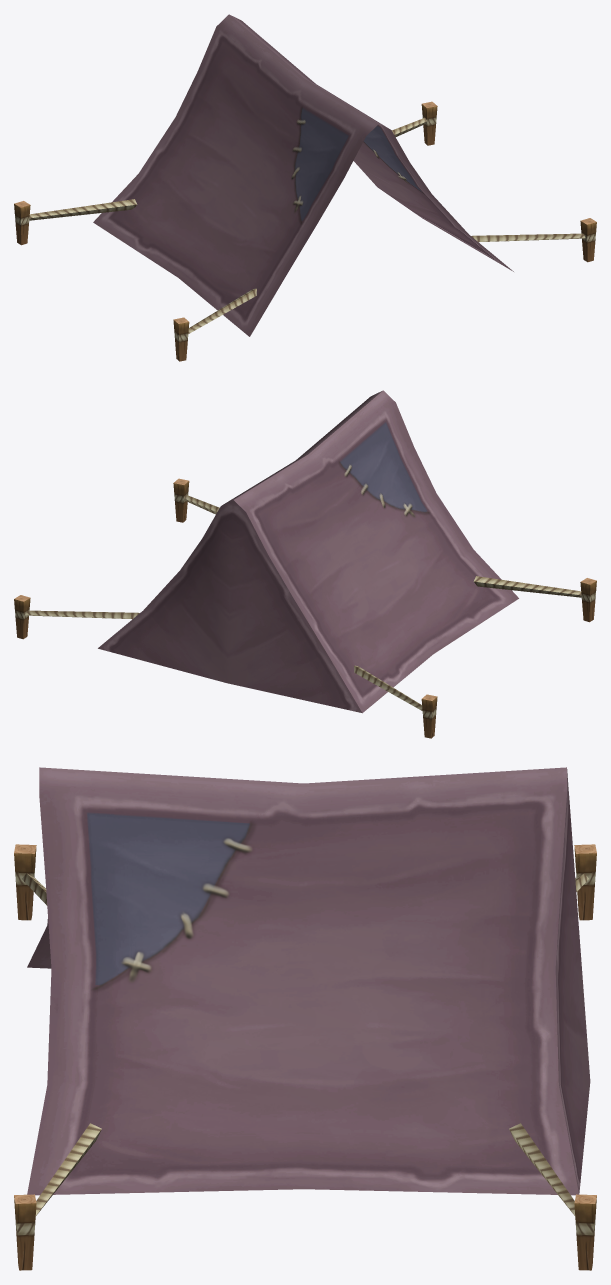
Rendered from tent_purple_02.fbx.
The picture shows the model from 3 angles, top to bottom: view 1: azimuth 30°, elevation 25°; view 2: azimuth 150°, elevation 25°; view 3: azimuth 270°, elevation 25°; orthographic projection. The views are drawn at different scales.
Parts seen in each view (by area): view 1: tent_purple_02:Mesh; view 2: tent_purple_02:Mesh; view 3: tent_purple_02:Mesh.
Part boxes in pixels (x1,y1,x2,y2): tent_purple_02:Mesh: [14, 14, 596, 361]; tent_purple_02:Mesh: [14, 390, 596, 738]; tent_purple_02:Mesh: [14, 767, 596, 1270].
Bounding box in the file's own units: 7.84 × 3.29 × 5.37.
